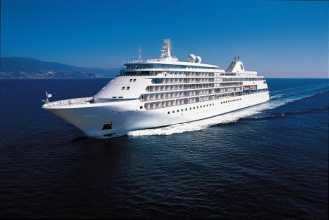youlun: (36, 40, 273, 139)
